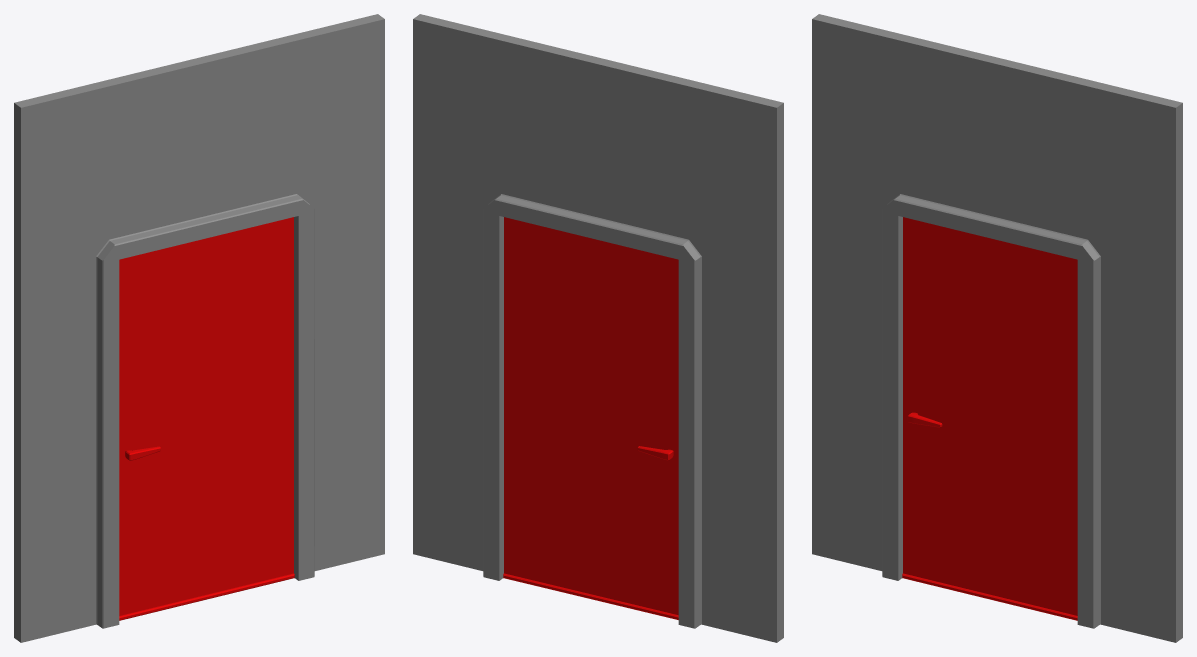
The model's file is Single_Door.fbx.
The picture shows the model from 3 angles, left to right: view 1: azimuth 30°, elevation 25°; view 2: azimuth 150°, elevation 25°; view 3: azimuth 330°, elevation 25°; orthographic projection.
Parts seen in each view (by area): view 1: Single_door, door; view 2: Single_door, door; view 3: Single_door, door.
Part boxes in pixels (x1,y1,x2,y2): Single_door: (14, 14, 384, 642); door: (119, 217, 294, 620); Single_door: (413, 14, 783, 642); door: (503, 217, 678, 619); Single_door: (812, 14, 1182, 642); door: (902, 217, 1077, 620).
Bounding box in the file's own units: 247 × 347 × 23.2.
